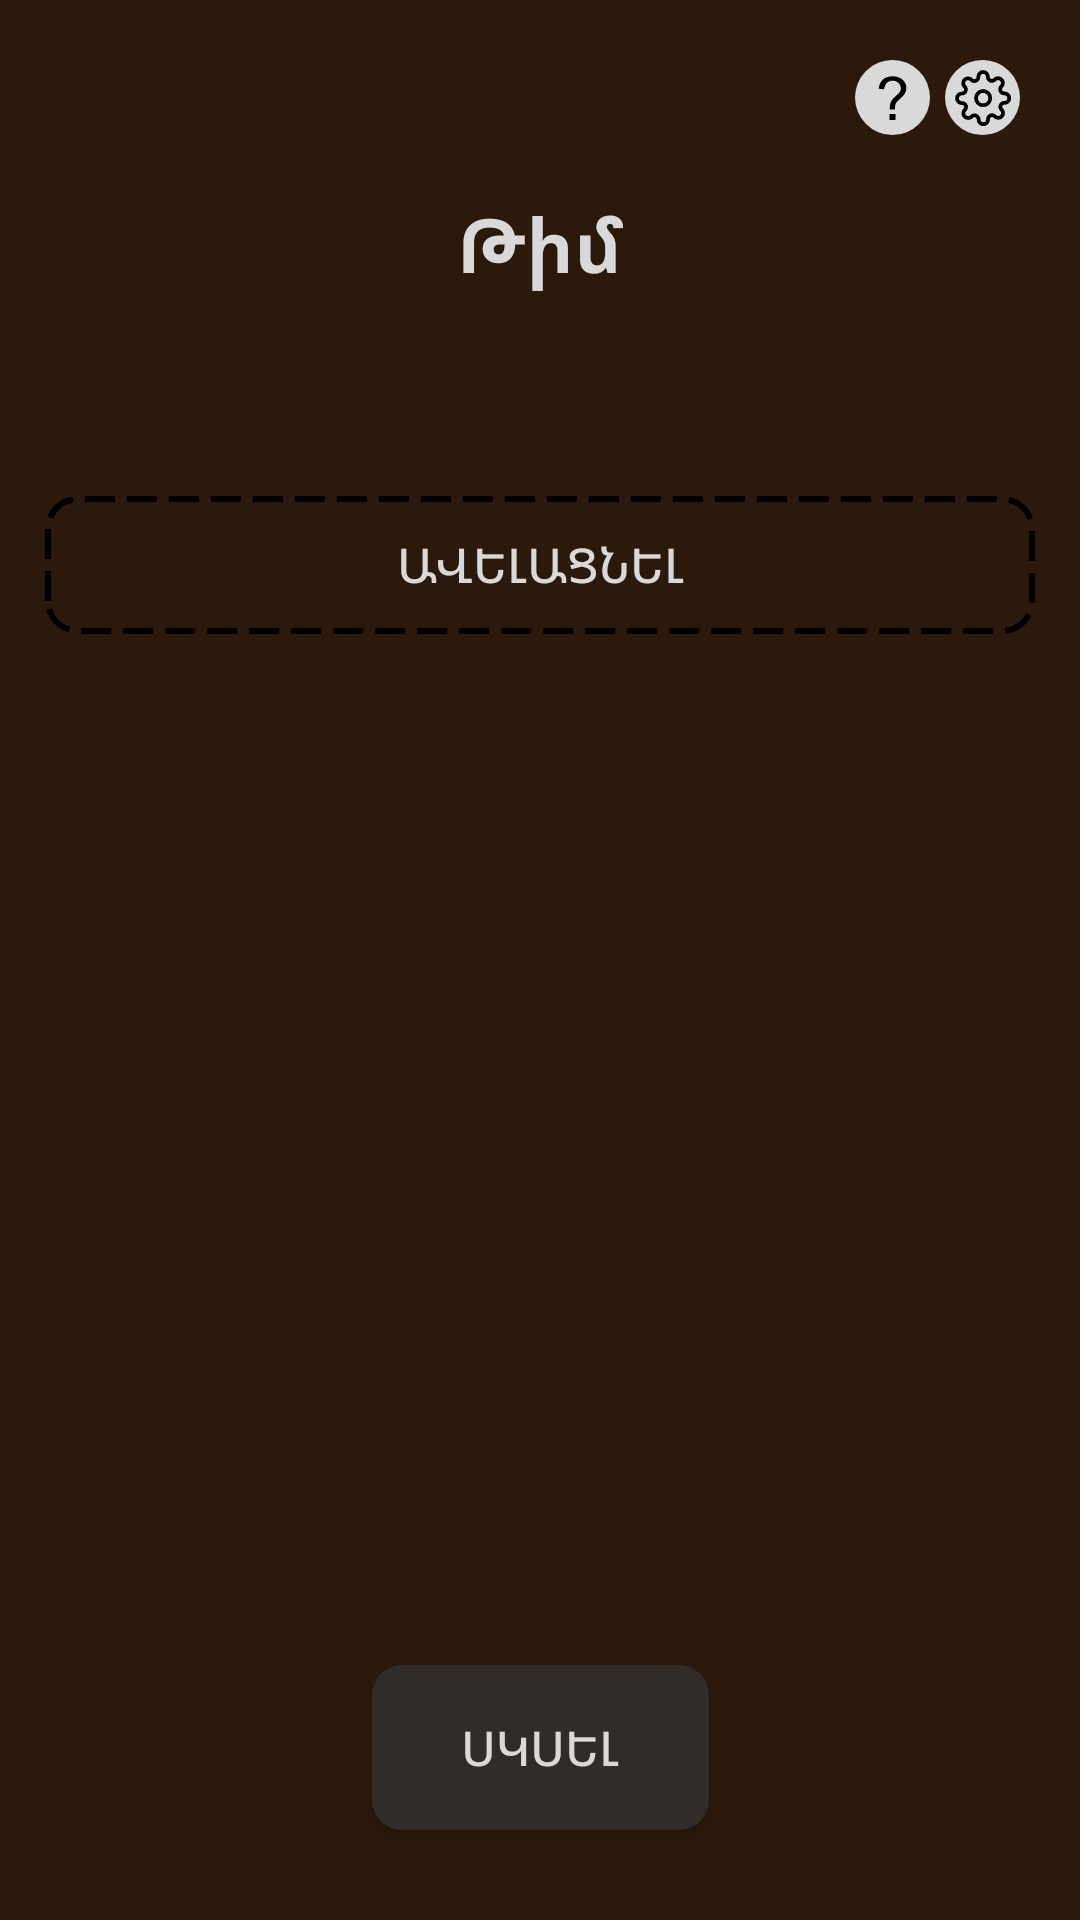

Where to tap for icons on this 1080 × 1920 app screen, as (x=x, y=y):
rules: (x=892, y=97)
settings: (x=982, y=97)
